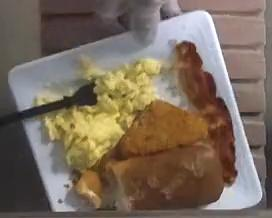bacon: (176, 41, 236, 184)
donut: (110, 144, 224, 209)
hash: (116, 100, 208, 158)
scrambled_eggs: (42, 59, 159, 167)
